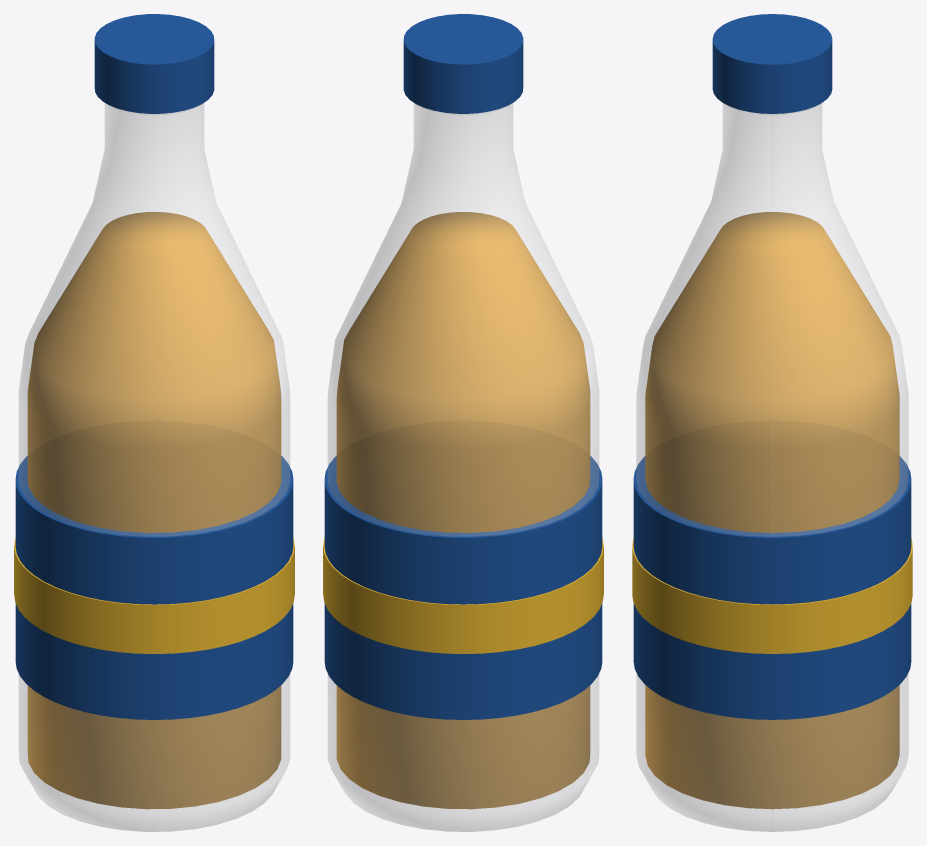
File: bibite-succo-di-frutta-looza.glb
The picture shows the model from 3 angles, left to right: view 1: azimuth 30°, elevation 25°; view 2: azimuth 150°, elevation 25°; view 3: azimuth 270°, elevation 25°; orthographic projection.
Size of the model in its own units: 0.0618 by 0.18 by 0.0618.
